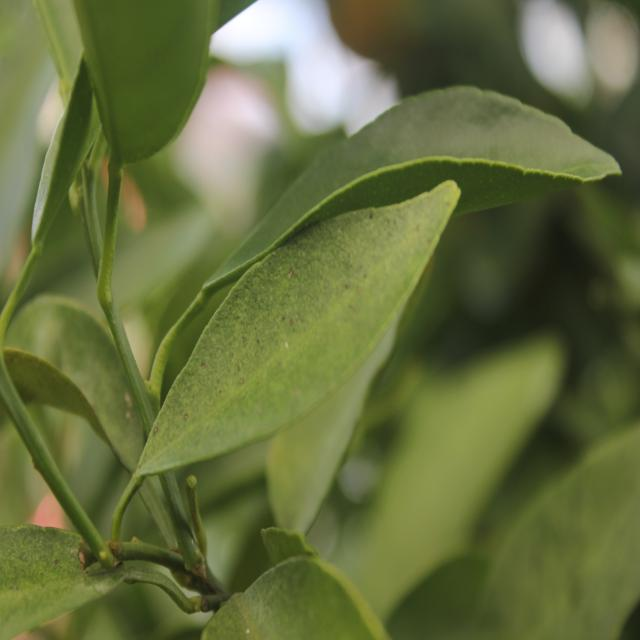blackspot: (134, 187, 450, 489)
